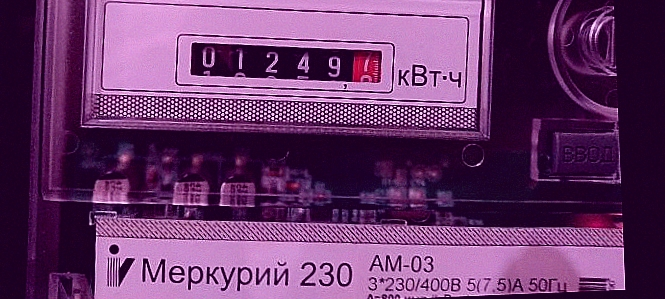0: (199, 43, 217, 69)
1: (231, 44, 246, 71)
2: (261, 49, 279, 76)
4: (294, 49, 311, 74)
7: (358, 47, 374, 74)
9: (323, 52, 341, 79)
screen: (171, 23, 398, 105)
